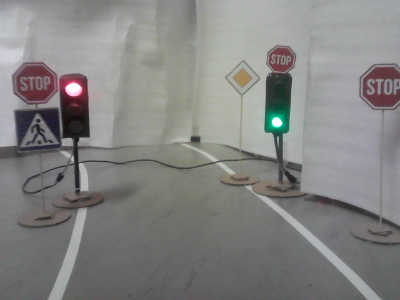crosswalk: (17, 108, 60, 150)
priority_road: (225, 61, 258, 93)
stop: (360, 64, 400, 110), (13, 63, 56, 103), (266, 46, 295, 73)
trafficlight_green: (264, 75, 288, 132)
trafficlight_red: (61, 77, 88, 136)
